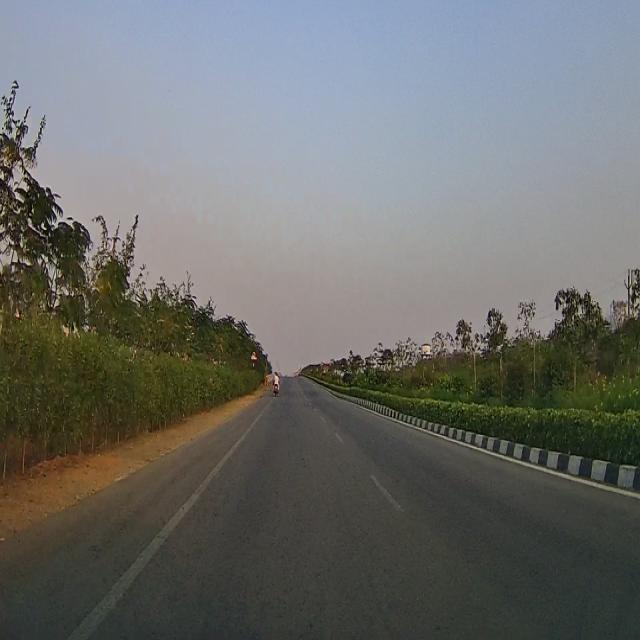left-hand-curve: (251, 345, 258, 361)
